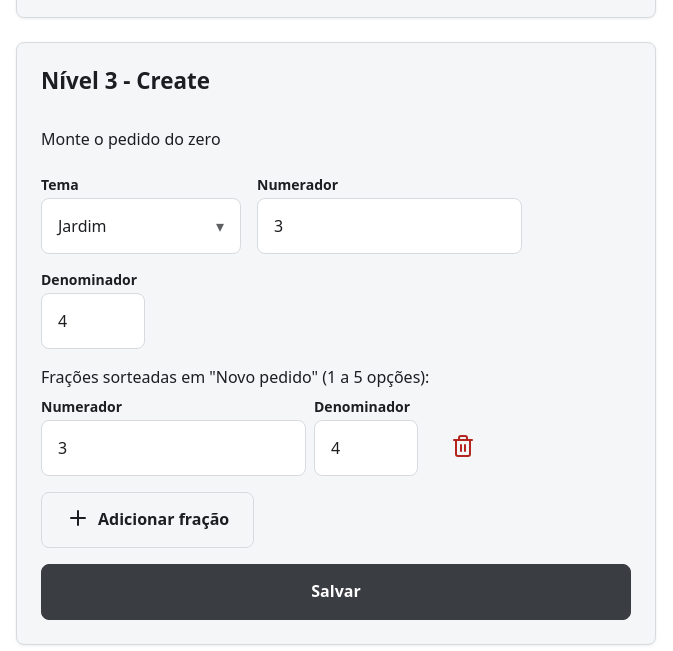
Test: TeacherMiniGameSettings › adds a fraction to the pool, capped at 5 options
(page scrolled)
Expected: the text "Monte o pedido do zero" is shown, [41,128,221,150]
Step 1. Click the button "Adicionar fração" → (148, 520), box [41,492,254,548]
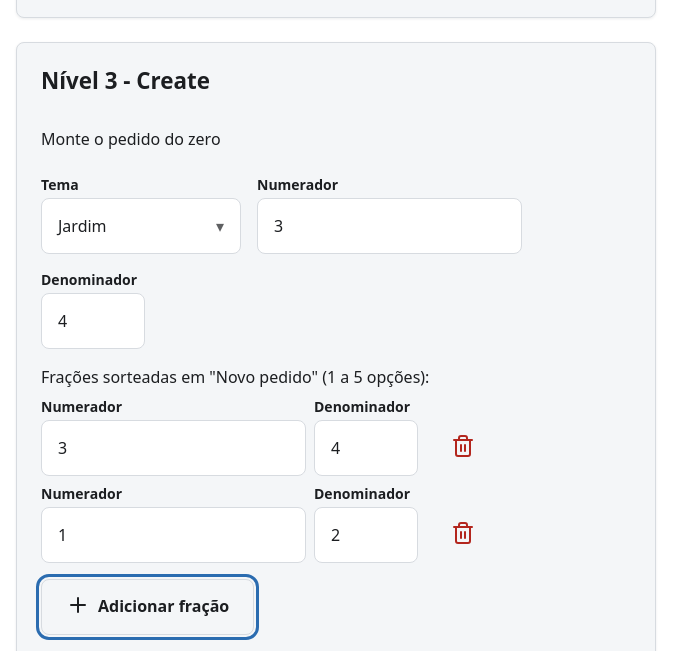
Step 2. Click the button "Adicionar fração" → (148, 607), box [41,579,254,635]
(page scrolled)
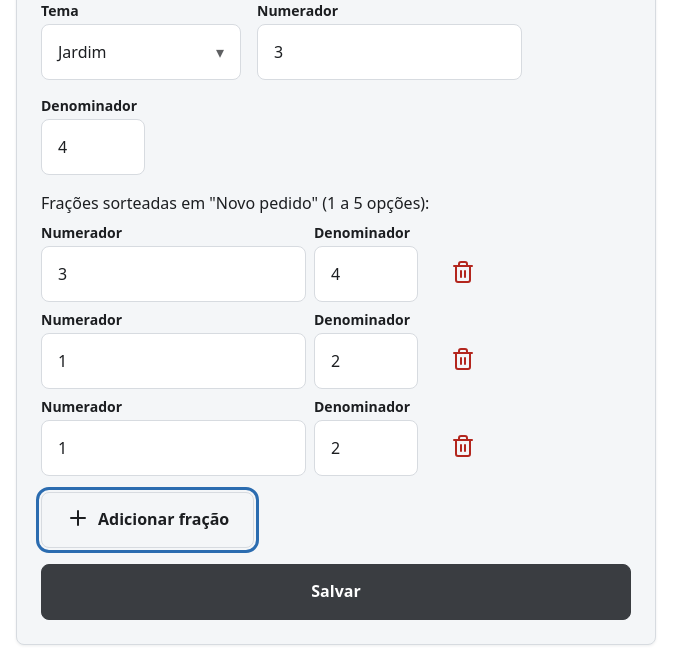
Step 3. Click the button "Adicionar fração" → (148, 520), box [41,492,254,548]
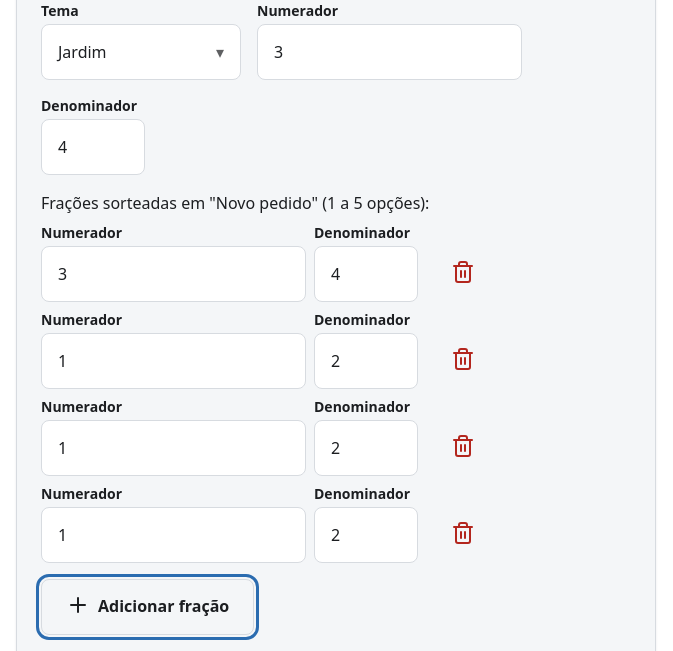
Step 4. Click the button "Adicionar fração" → (148, 607), box [41,579,254,635]
(page scrolled)
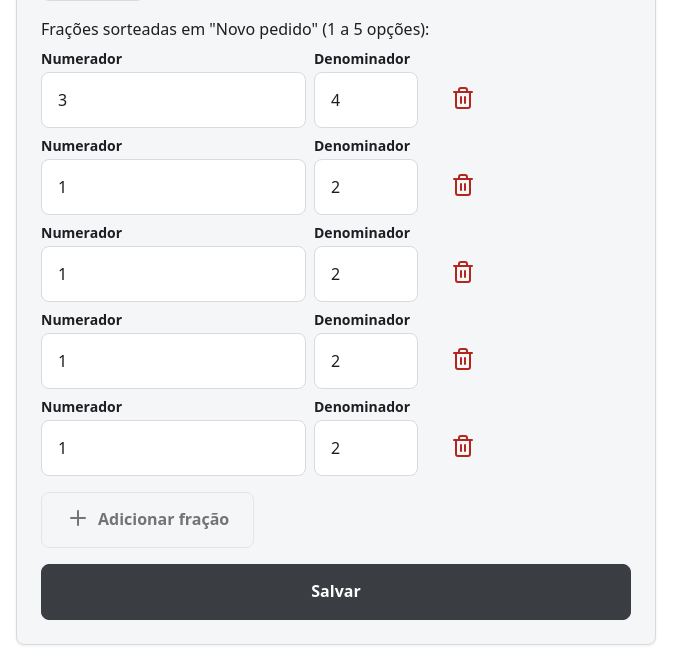
Expected: the button "Adicionar fração" is disabled, [41,492,254,548]
